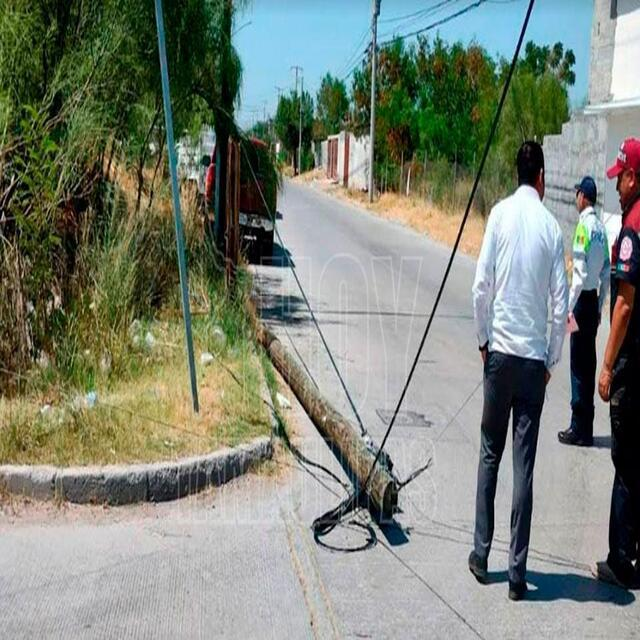Inclined Pole: (238, 287, 416, 558)
